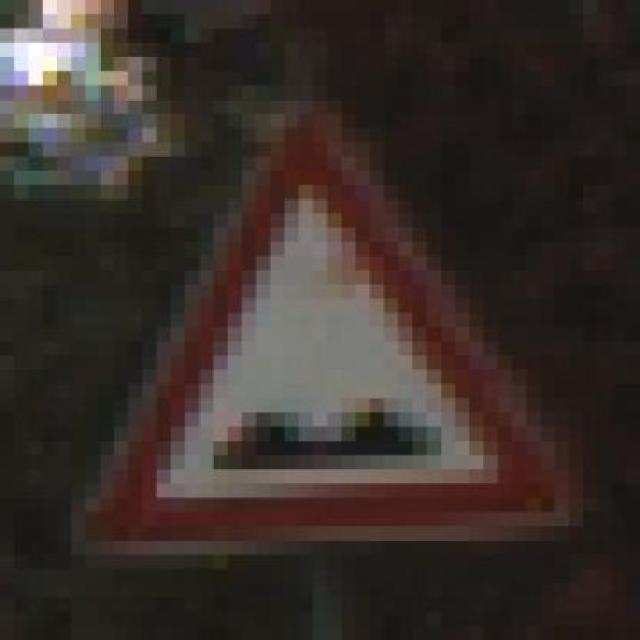Uneven Road: (71, 85, 583, 541)
